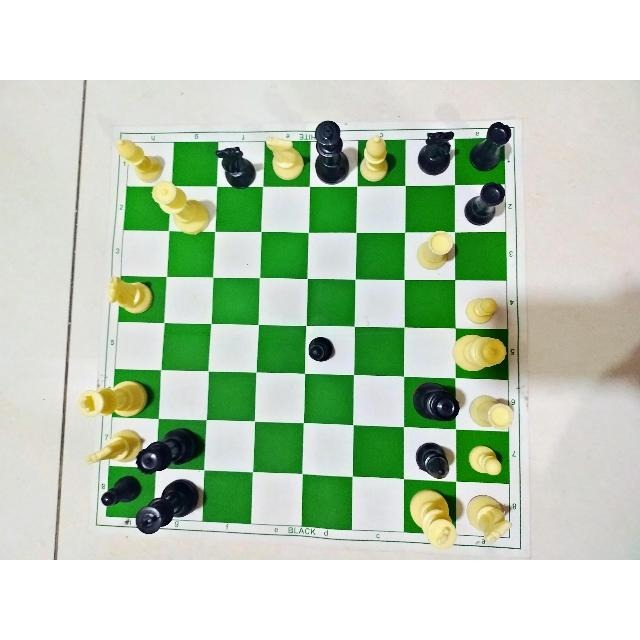black-bishop: (412, 443, 451, 481)
black-king: (133, 478, 196, 532), (313, 117, 349, 186)
black-knight: (415, 127, 456, 179), (213, 142, 253, 190)
black-pawn: (98, 474, 136, 508), (307, 333, 333, 364)
black-queen: (133, 429, 190, 473), (415, 380, 458, 424)
black-rook: (468, 119, 512, 171), (464, 182, 505, 226)
white-bishop: (114, 131, 158, 183), (362, 133, 386, 181)
white-king: (75, 378, 144, 420), (407, 492, 455, 552)
white-knight: (83, 427, 139, 467), (467, 495, 510, 545), (261, 133, 300, 183), (108, 271, 148, 319)
white-pawn: (468, 441, 502, 479), (467, 296, 499, 324)
white-queen: (152, 177, 204, 238), (455, 331, 505, 376)
white-rook: (467, 393, 514, 433), (418, 231, 455, 269)
